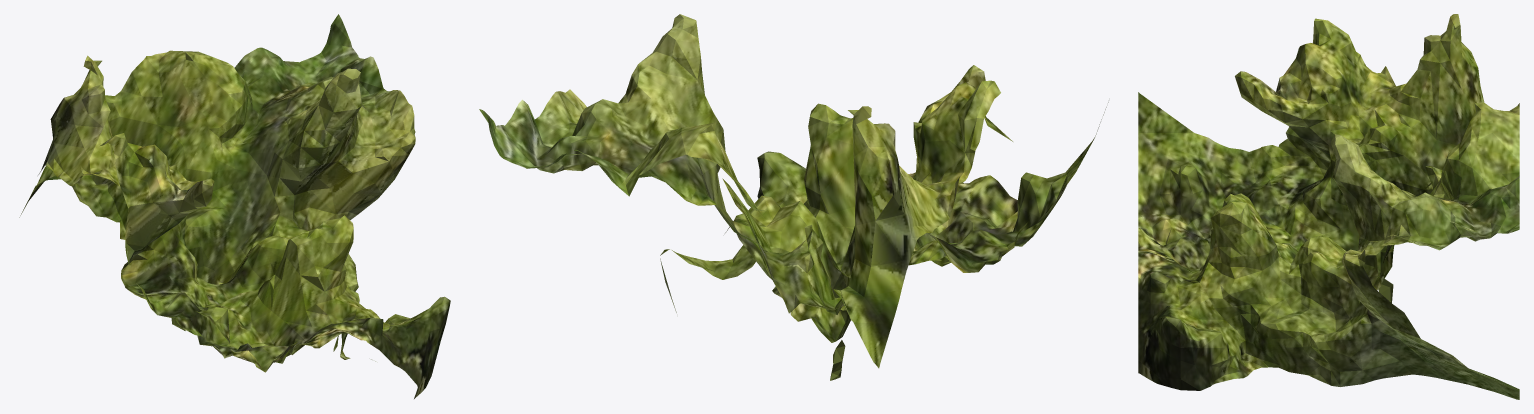
The picture shows the model from 3 angles, left to right: view 1: azimuth 30°, elevation 25°; view 2: azimuth 150°, elevation 25°; view 3: azimuth 270°, elevation 25°; orthographic projection. The views are drawn at different scales.
Bounding box in the file's own units: 2.95 × 2.35 × 2.95.
Materials: 5 (5 with a texture image).
